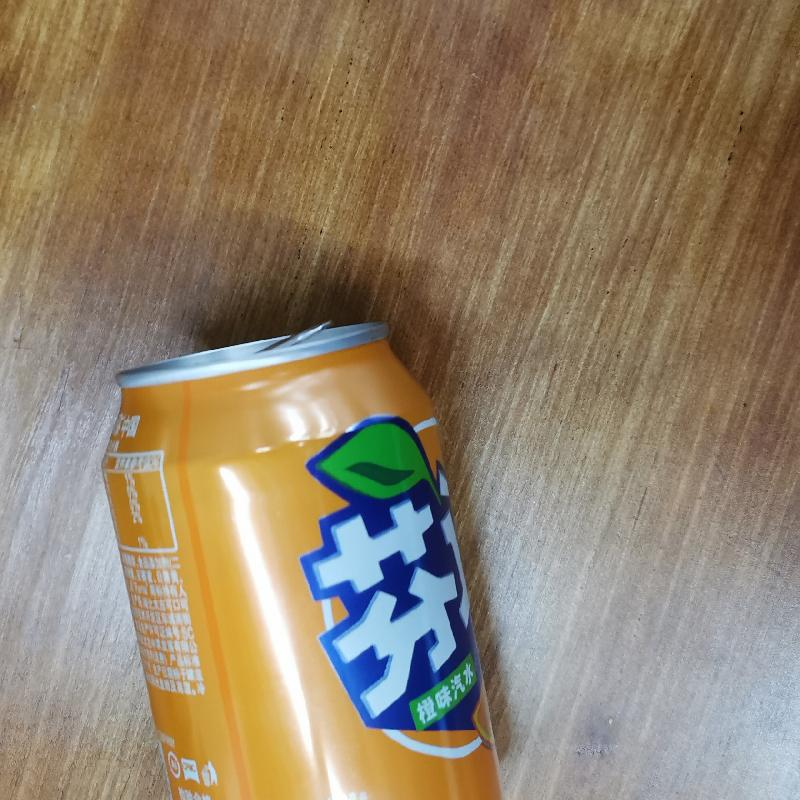cans: (104, 313, 603, 800)
